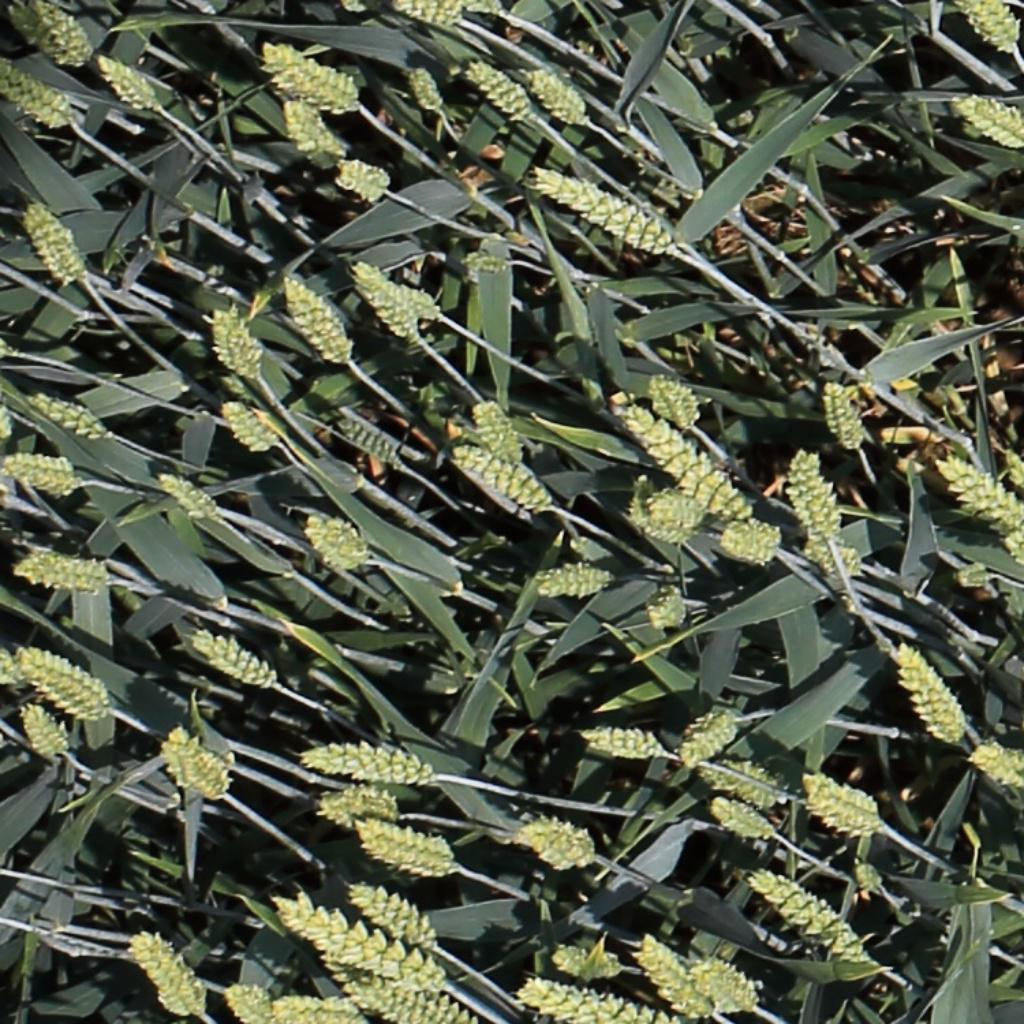0-0: (608, 387, 758, 524), (269, 889, 448, 990), (529, 166, 673, 252), (746, 868, 866, 963), (257, 37, 368, 120), (513, 973, 685, 1024), (11, 640, 115, 724), (632, 931, 719, 1019), (935, 445, 1024, 531), (894, 643, 965, 746), (278, 270, 355, 363), (447, 443, 550, 512), (344, 878, 440, 952), (296, 737, 437, 787), (126, 929, 203, 1019), (341, 972, 476, 1022), (353, 816, 459, 877), (0, 57, 84, 131), (348, 260, 421, 341), (160, 726, 237, 802), (788, 444, 848, 541), (502, 813, 601, 871), (280, 94, 357, 167), (21, 197, 86, 283), (188, 628, 278, 690), (694, 753, 793, 808), (10, 544, 119, 593), (310, 779, 408, 833), (5, 1, 86, 66), (688, 951, 761, 1016), (673, 707, 746, 769), (802, 786, 886, 839), (951, 94, 1024, 154), (299, 511, 373, 570), (206, 300, 261, 379), (331, 409, 400, 468), (30, 391, 109, 442), (462, 60, 531, 118), (1, 452, 86, 499), (469, 394, 522, 468), (34, 0, 95, 64), (95, 54, 162, 112), (705, 792, 782, 842), (522, 66, 585, 126), (154, 472, 225, 524), (801, 770, 883, 815), (819, 375, 864, 456), (17, 699, 69, 767), (531, 562, 621, 601), (219, 398, 279, 455), (647, 369, 702, 431), (269, 991, 378, 1022), (960, 0, 1020, 55), (576, 727, 666, 761), (796, 538, 866, 581), (547, 941, 623, 980), (381, 278, 443, 324), (332, 158, 393, 203), (621, 511, 699, 546), (644, 485, 708, 527), (721, 518, 778, 565), (967, 742, 1024, 788), (401, 60, 445, 117), (222, 981, 275, 1023), (647, 581, 690, 632), (394, 0, 462, 26), (459, 247, 514, 278), (849, 857, 886, 903), (626, 473, 659, 522), (743, 516, 786, 553), (951, 559, 992, 594), (995, 442, 1024, 489), (0, 643, 28, 688), (999, 525, 1024, 568), (457, 0, 506, 17)
